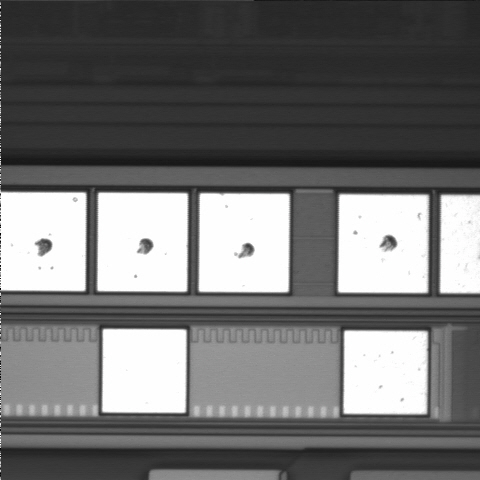pad: (98, 193, 188, 292), (199, 193, 289, 292), (338, 195, 428, 293), (102, 329, 186, 413), (344, 331, 427, 414)
